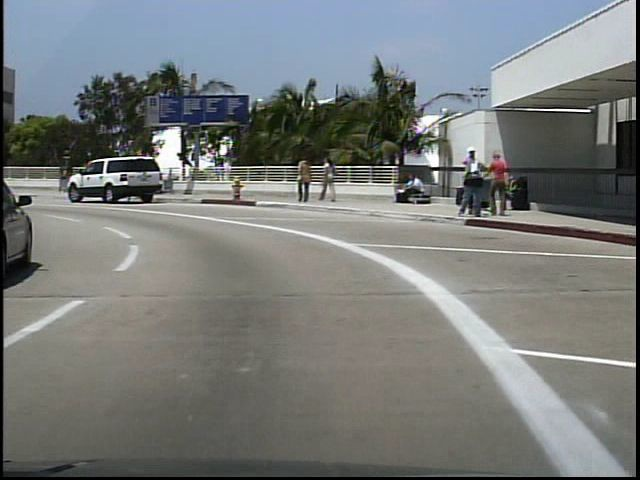person: (462, 143, 486, 222), (487, 151, 509, 219), (320, 156, 339, 208), (295, 152, 313, 206), (400, 175, 424, 206)
